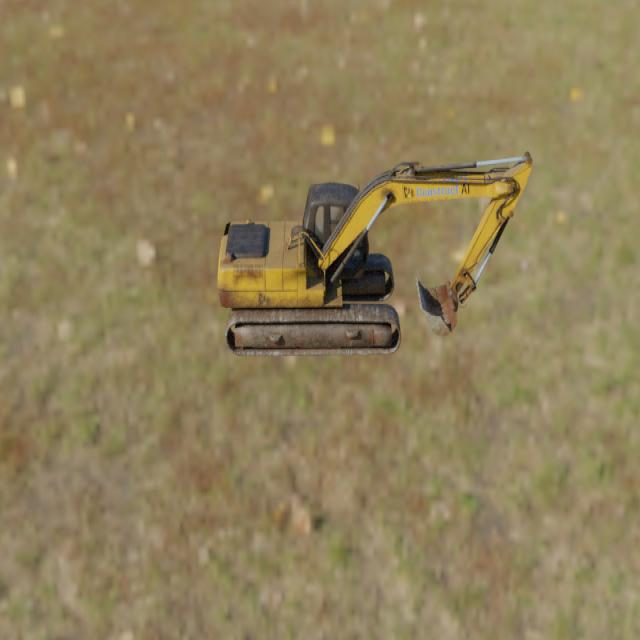excavator: (216, 149, 533, 356)
